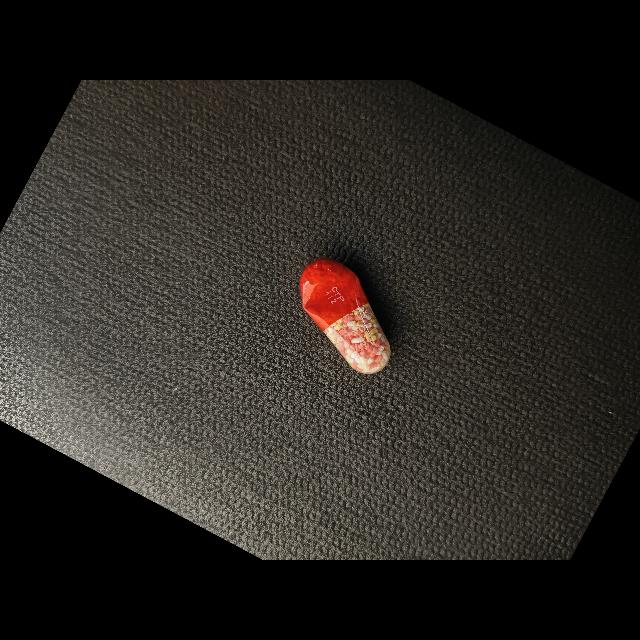Defective Capsule: (300, 259, 391, 374)
